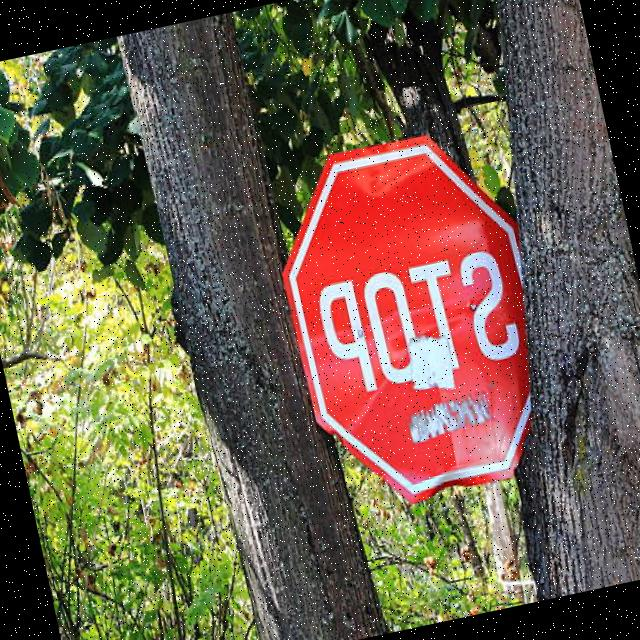stop: (236, 102, 583, 530)
